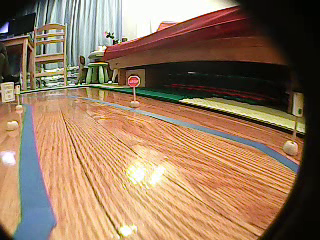Green Traffic Light: (291, 88, 305, 118)
Stop Sign: (127, 75, 141, 88)
